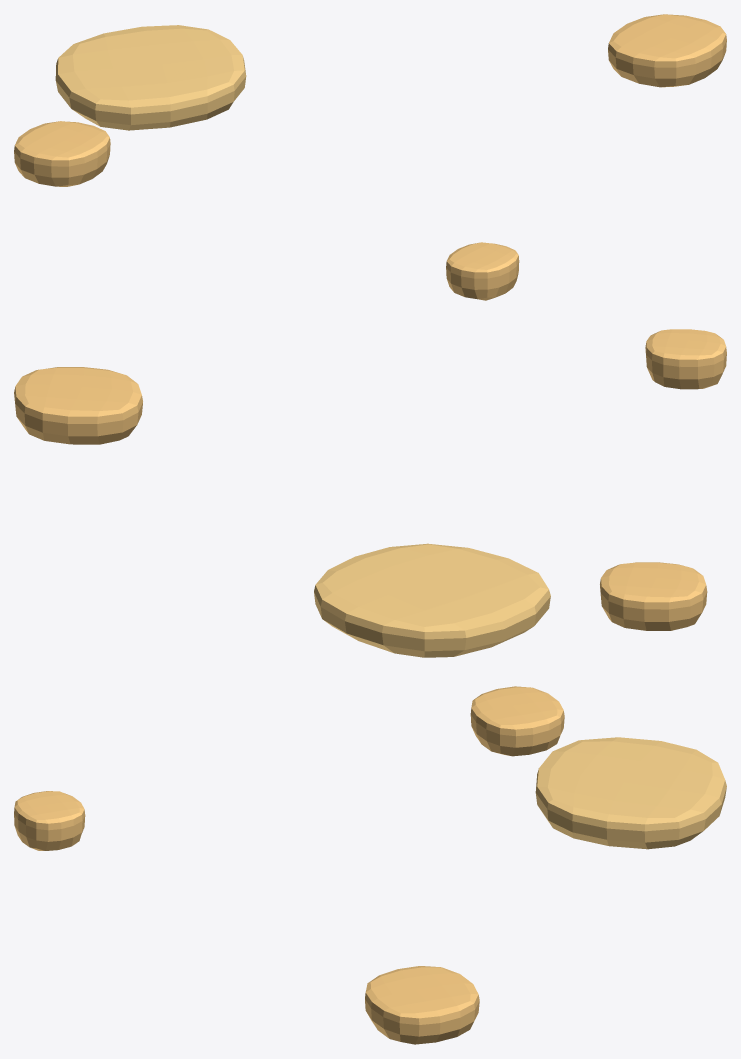
The model's file is tile_dirt.fbx.
The picture shows the model from 3 angles, top to bottom: view 1: azimuth 30°, elevation 25°; view 2: azimuth 150°, elevation 25°; view 3: azimuth 270°, elevation 25°; orthographic projection. The views are drawn at different scales.
Parts seen in each view (by area): view 1: Cube.118, Cube.121, Cube.119, Cube.120; view 2: Cube.118, Cube.121, Cube.119, Cube.120; view 3: Cube.118, Cube.121, Cube.119, Cube.120.
Boxes of the visible parts, x1,y1,x2,y2 form: Cube.118: [55, 25, 246, 130]; Cube.121: [608, 14, 726, 87]; Cube.119: [14, 121, 110, 186]; Cube.120: [446, 242, 519, 300]; Cube.118: [314, 543, 550, 657]; Cube.121: [14, 367, 142, 444]; Cube.119: [600, 562, 707, 630]; Cube.120: [645, 329, 726, 389]; Cube.118: [535, 737, 726, 849]; Cube.121: [365, 966, 479, 1044]; Cube.119: [470, 686, 564, 756]; Cube.120: [14, 791, 85, 850].
Size of the model in its own units: 0.6082 by 0.5505 by 0.0325.
